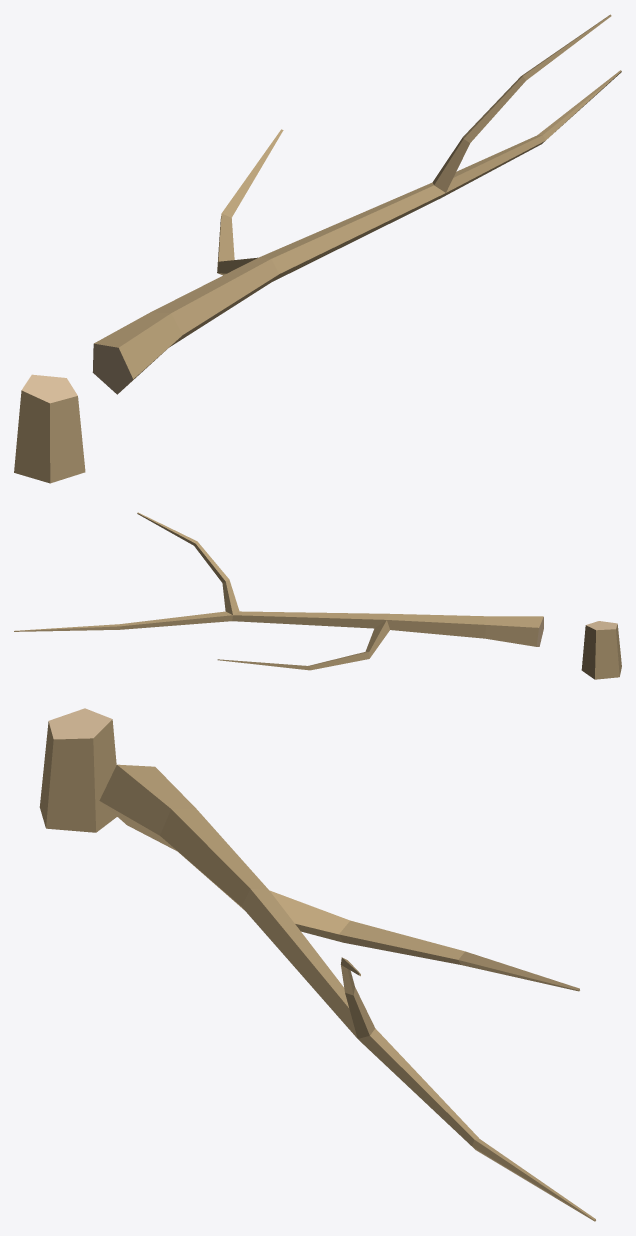
File: Random_Tree_NoLeaves_crk_m_03.fbx
The picture shows the model from 3 angles, top to bottom: view 1: azimuth 30°, elevation 25°; view 2: azimuth 150°, elevation 25°; view 3: azimuth 270°, elevation 25°; orthographic projection. The views are drawn at different scales.
Parts seen in each view (by area): view 1: Random_Tree_NoLeaves_crk_m_03; view 2: Random_Tree_NoLeaves_crk_m_03; view 3: Random_Tree_NoLeaves_crk_m_03.
Boxes of the visible parts, box(x1,y1,x2,y2) form: Random_Tree_NoLeaves_crk_m_03: box(14, 14, 621, 483); Random_Tree_NoLeaves_crk_m_03: box(14, 512, 621, 679); Random_Tree_NoLeaves_crk_m_03: box(39, 708, 595, 1221).
Size of the model in its own units: 916 by 209 by 461.
